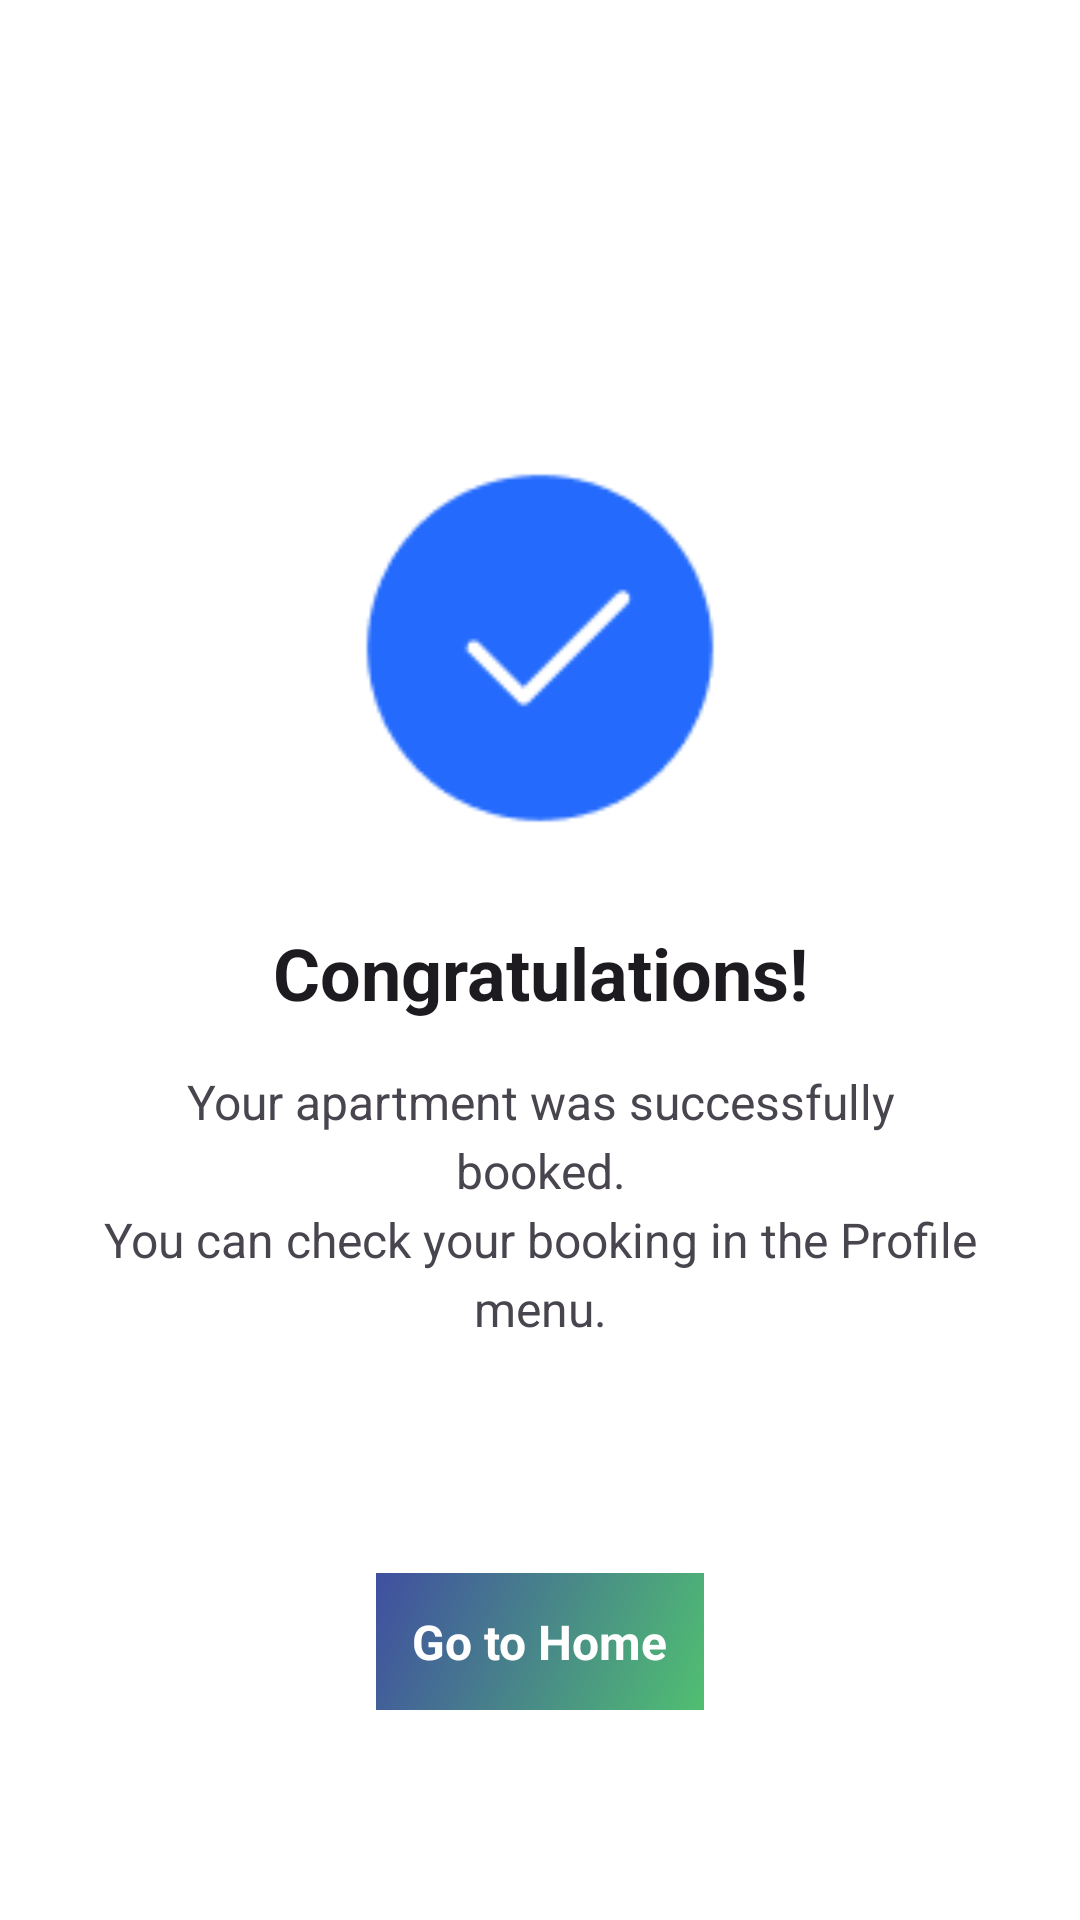

Named icons in this screenshot (1080 x 1920) and their bounding boxes, {"x1": x1, "y1": y1, "x2": x2, "y2": y2}:
Success icon: {"x1": 366, "y1": 474, "x2": 714, "y2": 822}
